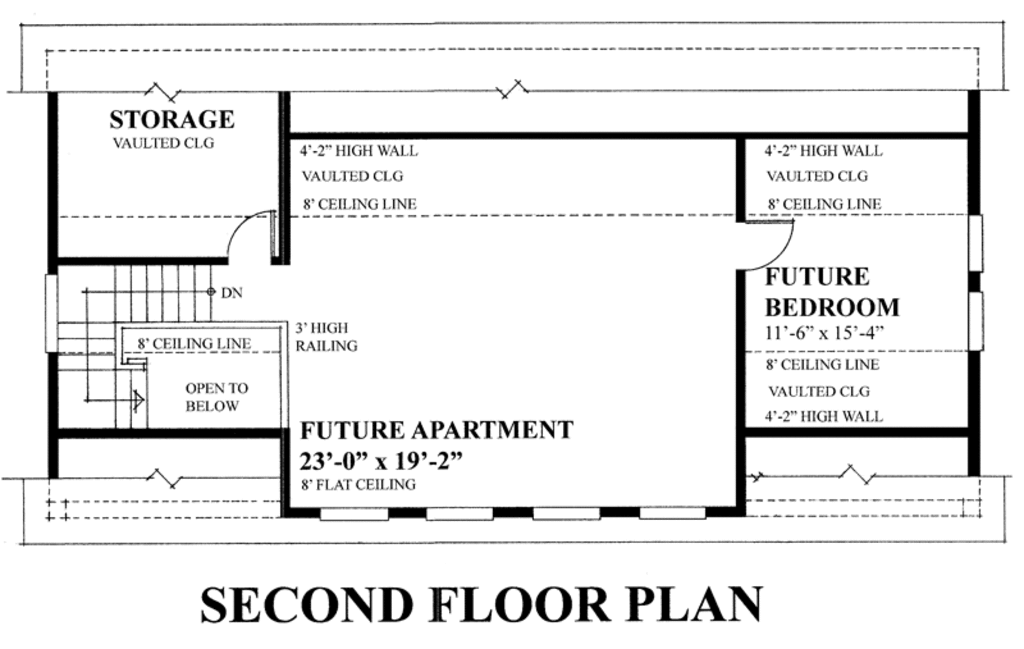door: (216, 207, 281, 268), (734, 215, 800, 272)
stairs: (56, 266, 246, 428)
window: (317, 500, 395, 525), (529, 503, 605, 527), (966, 210, 988, 274), (424, 508, 497, 526), (639, 505, 707, 522), (971, 291, 985, 350)
